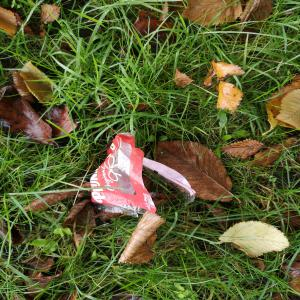Trash: (91, 132, 199, 220)
